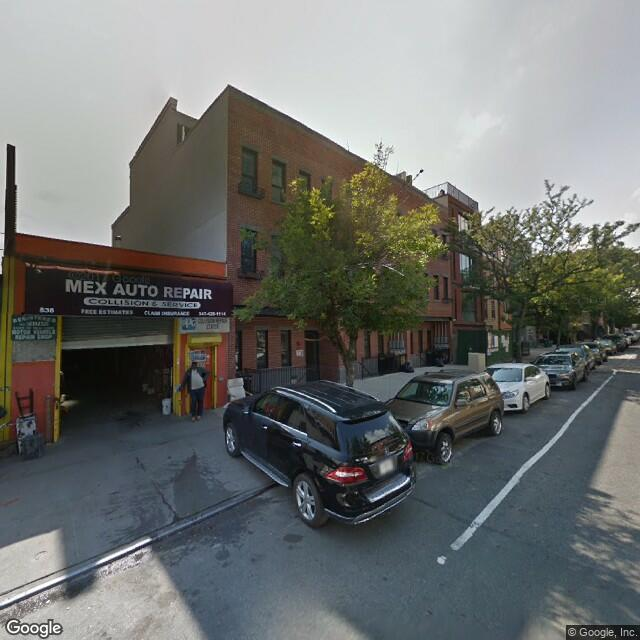litter: (400, 359, 423, 379)
